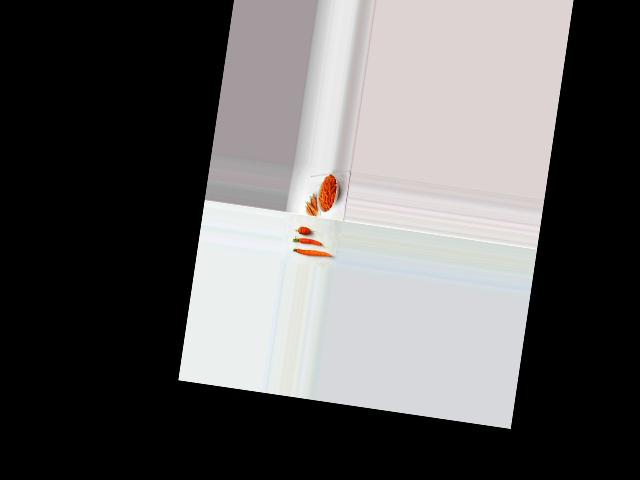carrot: (294, 224, 315, 235)
